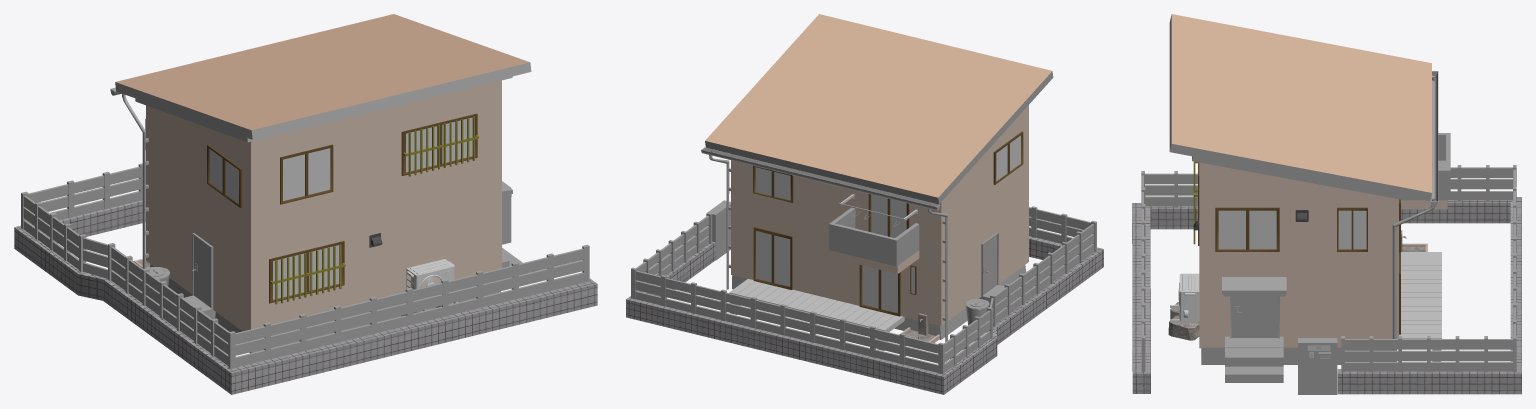
The model's file is house002_high_color1.fbx.
3 renders of one model, left to right at view 1: azimuth 30°, elevation 25°; view 2: azimuth 150°, elevation 25°; view 3: azimuth 270°, elevation 25°, orthographic. The views are drawn at different scales.
Visible parts, largest first — view 1: house002_high; view 2: house002_high; view 3: house002_high.
Part boxes in pixels (x1,y1,x2,y2): house002_high: (14,14,597,394); house002_high: (626,14,1103,394); house002_high: (1132,14,1521,394).
Bounding box in the file's own units: 18.64 × 11.43 × 17.22.
